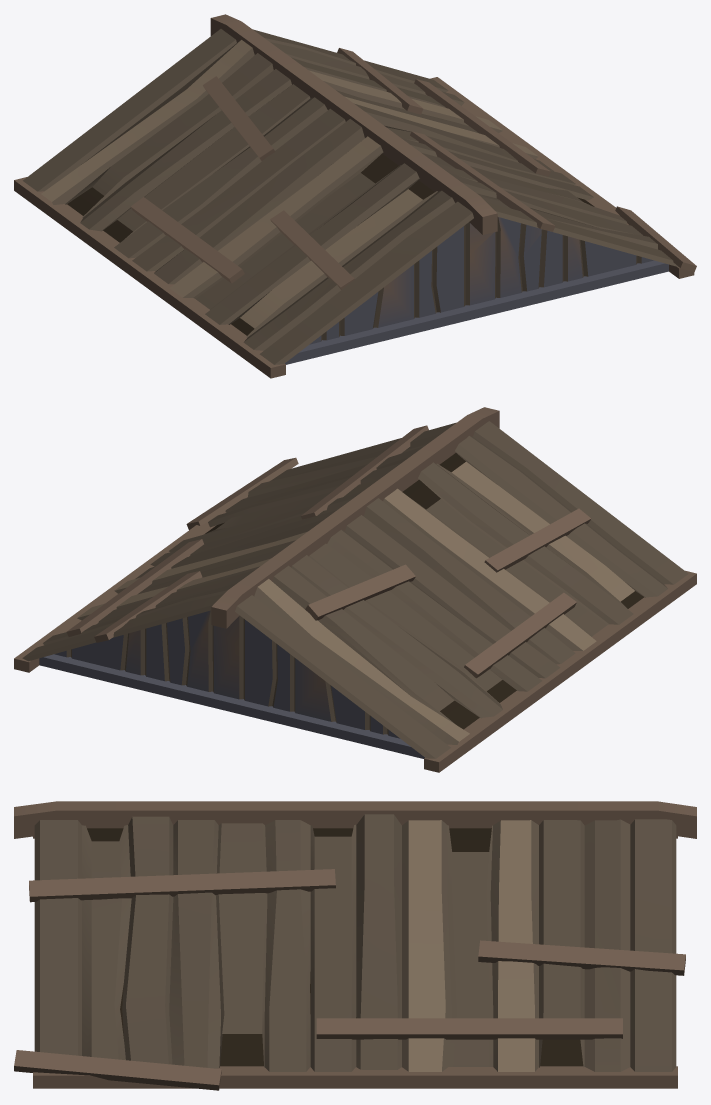
The model's file is SM_Bld_Shanty_Roof_03.glb.
3 views of the same model, one above another, from view 1: azimuth 30°, elevation 25°; view 2: azimuth 150°, elevation 25°; view 3: azimuth 270°, elevation 25° (orthographic). The views are drawn at different scales.
Parts seen in each view (by area): view 1: SM_Bld_Shanty_Roof_03; view 2: SM_Bld_Shanty_Roof_03; view 3: SM_Bld_Shanty_Roof_03.
Boxes of the visible parts, <box> form: SM_Bld_Shanty_Roof_03: <box>14,14,696,378</box>; SM_Bld_Shanty_Roof_03: <box>14,407,696,772</box>; SM_Bld_Shanty_Roof_03: <box>14,801,696,1090</box>.
Bounding box in the file's own units: 0.0548 × 0.0147 × 0.0594.
